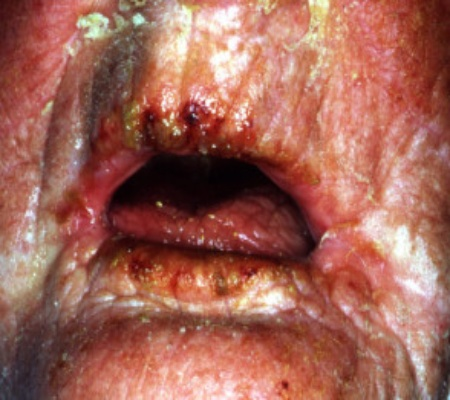SJS-TEN: (0, 13, 450, 400)
